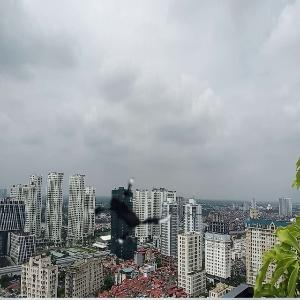drone: (80, 157, 181, 258)
